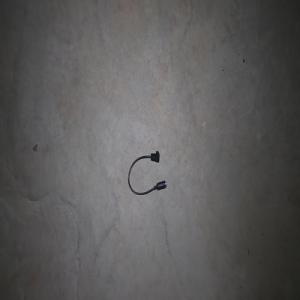Wire: (127, 150, 166, 195)
